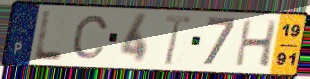4: (117, 11, 150, 68)
7: (201, 16, 239, 68)
C: (70, 14, 111, 61)
H: (233, 18, 279, 69)
L: (32, 9, 64, 63)
T: (163, 13, 193, 67)
